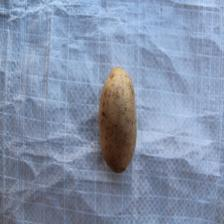Diseased-fungal potato: (96, 66, 138, 174)
